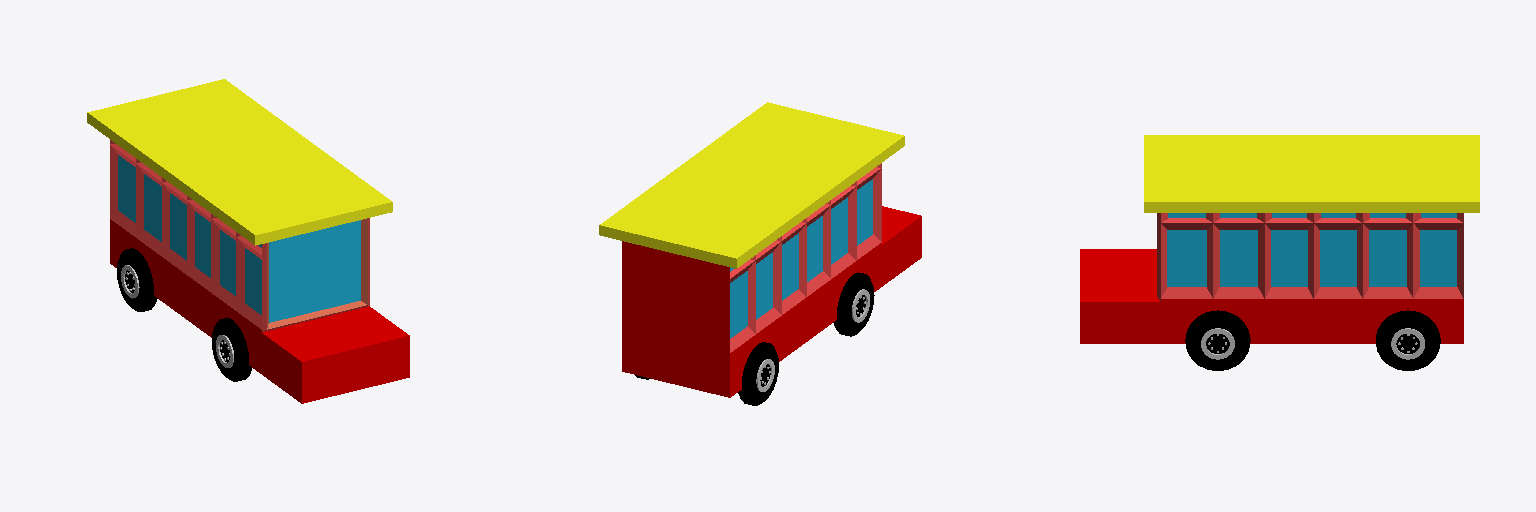
File: bus.obj
3 views of the same model, side by side, from view 1: azimuth 30°, elevation 25°; view 2: azimuth 150°, elevation 25°; view 3: azimuth 270°, elevation 25° (orthographic).
Visible parts, largest first — view 1: polySurface6; view 2: polySurface6; view 3: polySurface6.
Part boxes in pixels (bbox=[...]): polySurface6: bbox=[87, 79, 409, 403]; polySurface6: bbox=[599, 102, 921, 405]; polySurface6: bbox=[1080, 135, 1479, 370].
Size of the model in its own units: 5.46 by 6.62 by 13.75.